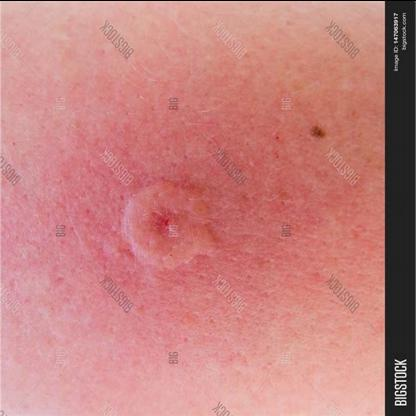Wasp: (110, 159, 230, 281)
